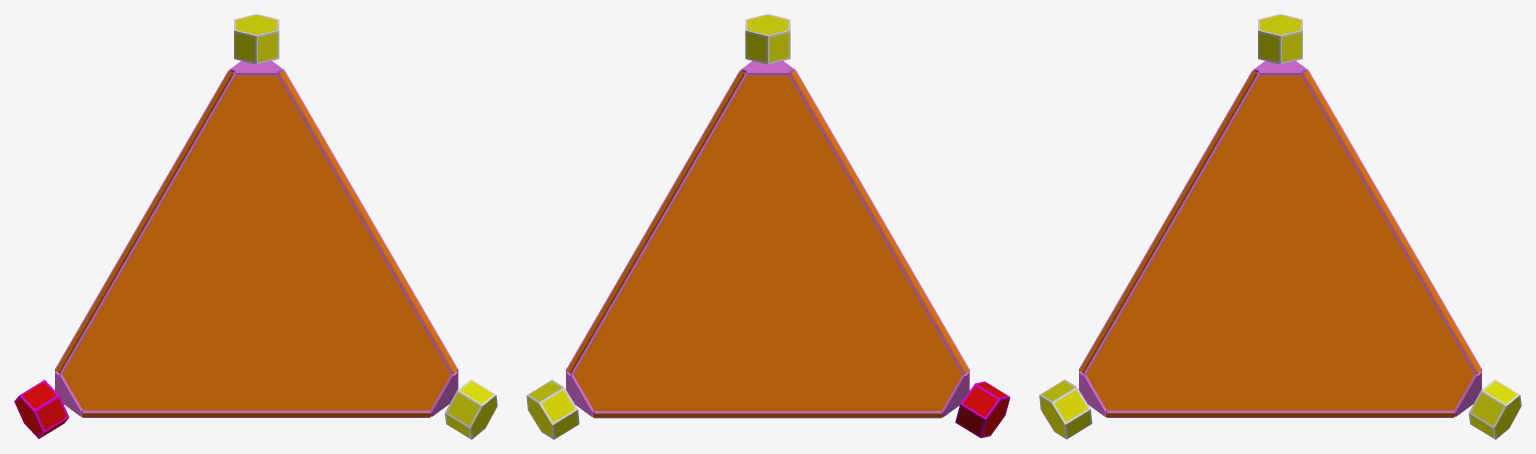
Rendered from Tetrahedron_LowRes_v01.FBX.
3 renders of one model, left to right at view 1: azimuth 30°, elevation 25°; view 2: azimuth 150°, elevation 25°; view 3: azimuth 270°, elevation 25°, orthographic.
Parts seen in each view (by area): view 1: GEARS; view 2: GEARS; view 3: GEARS.
Boxes of the visible parts, x1,y1,x2,y2 form: GEARS: (14, 14, 497, 439); GEARS: (526, 14, 1010, 439); GEARS: (1039, 14, 1521, 439).
Size of the model in its own units: 16.27 by 15.13 by 18.44.
